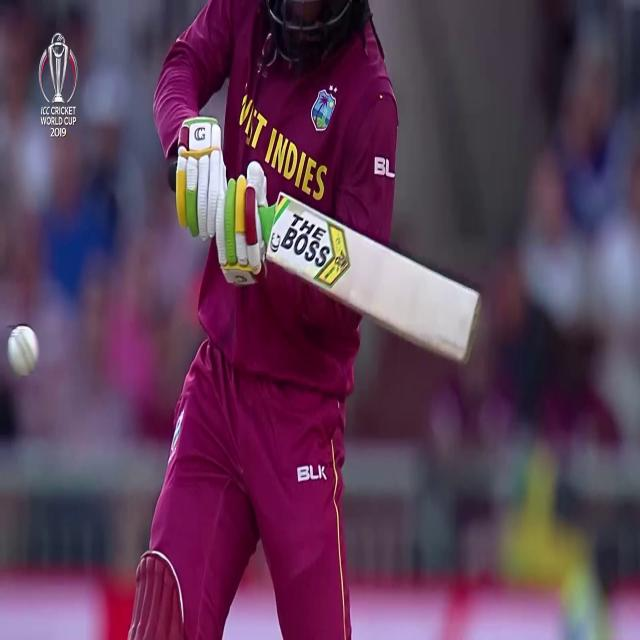ball: (4, 321, 46, 381)
